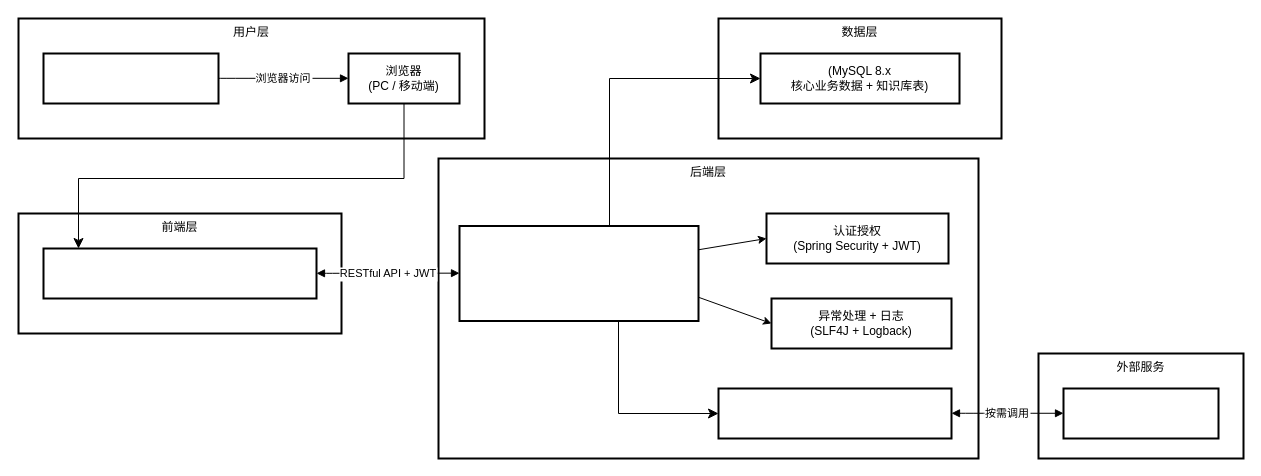
This 1261x476 diagram has some shape labels left out. Each missing label, with the centre of its shape:
AI服务层 (通义千问 API + 自定义知识库): pixel 834 413
前端 Vue 3 (Vite + Pinia + Element Plus + Axios): pixel 179 273
后端 Spring Boot 3.x (Controller → Service → MyBatis-Plus): pixel 578 273
用户 (学生 / 教师 / 管理员): pixel 130 78
阿里云通义千问 API (DashScope SDK): pixel 1140 413
